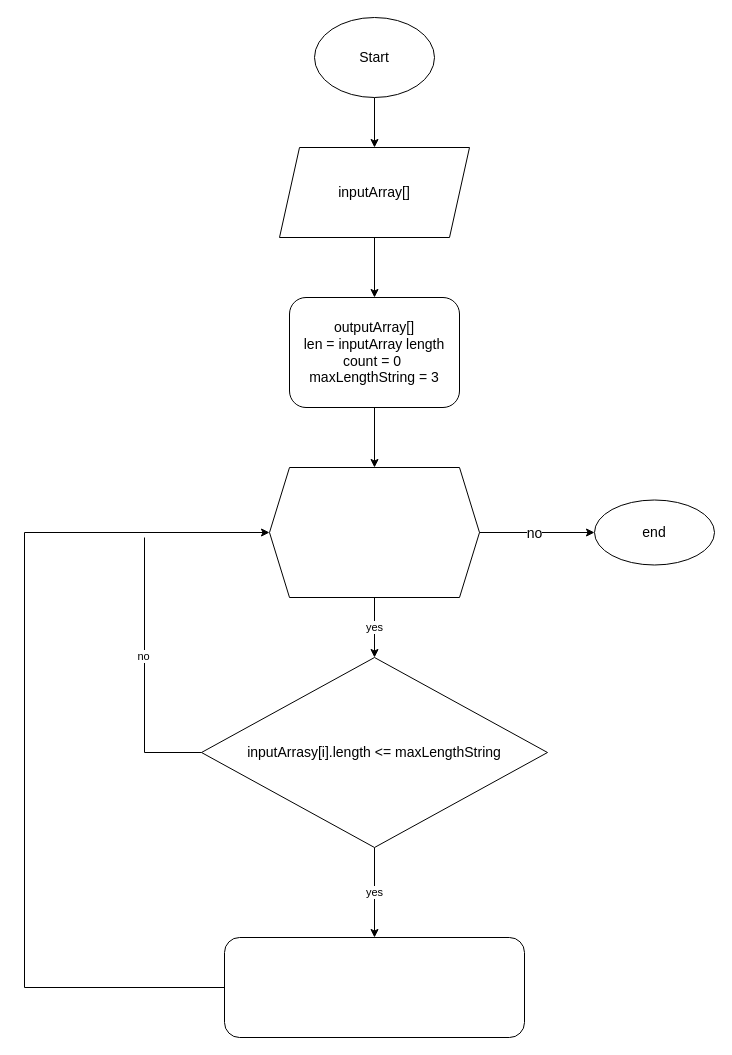
Some shapes in this 732 by 1055 pixel diagram are drawn without their labels. The box of each missing label's shape, as (x1, y1, x2, y2) in pixels:
i = 0 i < len i = i + 1: (268, 466, 480, 598)
outputArray[count] = inputArray[i] count ++: (224, 936, 524, 1038)
